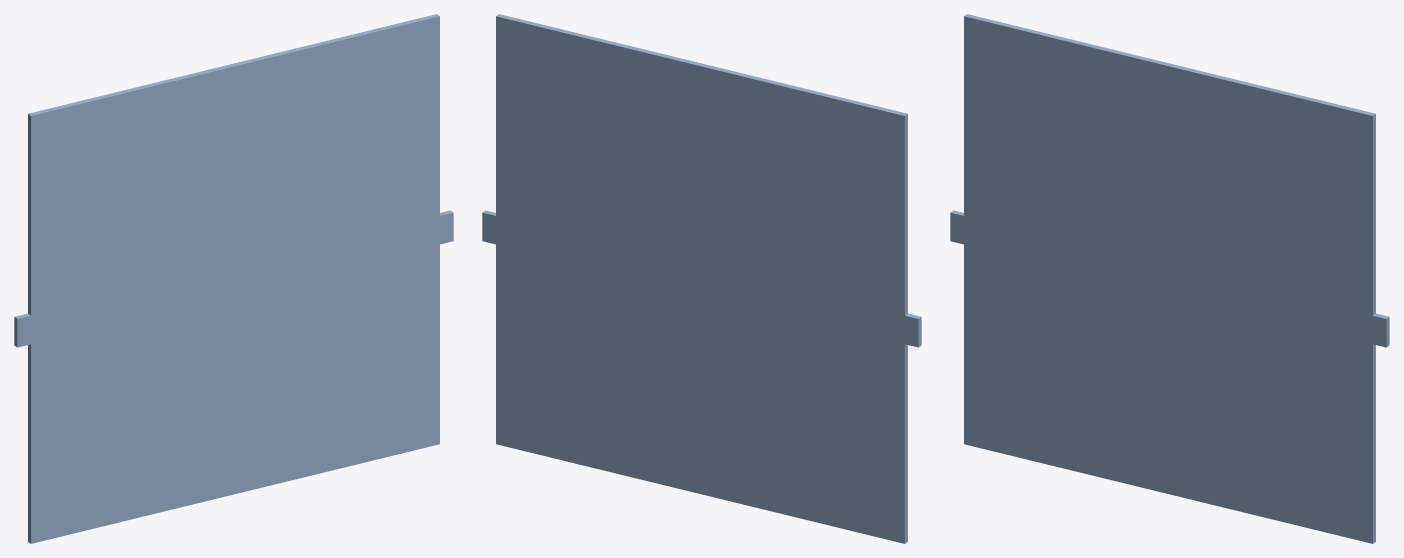
Rendered from wafer_current_l1.glb.
The picture shows the model from 3 angles, left to right: view 1: azimuth 30°, elevation 25°; view 2: azimuth 150°, elevation 25°; view 3: azimuth 330°, elevation 25°; orthographic projection.
Parts seen in each view (by area): view 1: WAFER_CURRENT; view 2: WAFER_CURRENT; view 3: WAFER_CURRENT.
Boxes of the visible parts, left/top/right/bottom form: WAFER_CURRENT: left=14, top=14, right=453, bottom=543; WAFER_CURRENT: left=482, top=14, right=921, bottom=543; WAFER_CURRENT: left=950, top=14, right=1389, bottom=543.
Size of the model in its own units: 0.32 by 0.3 by 0.004.
